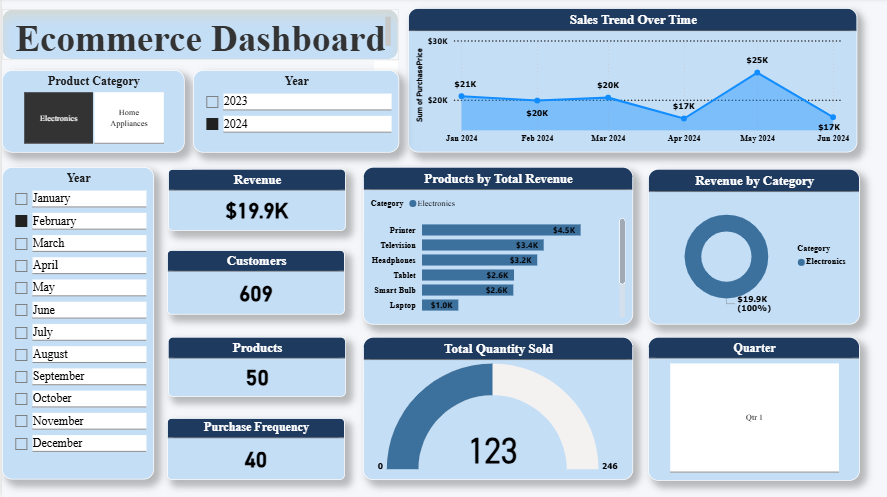

What the dashboard file says about the page in this screenshot:
{"tool":"powerbi","page":{"name":"E-Commerce Overview","canvas":[1280,720],"ordinal":0},"visuals":[{"type":"textbox","title":"Ecommerce Dashboard","box":[0,15.9,571.5,72.9],"z":6000},{"type":"areaChart","title":"Sales Trend Over Time","fields":{"Category":["transactions.PurchaseDate.Variation.Date Hierarchy.Year","transactions.PurchaseDate.Variation.Date Hierarchy.Month"],"Y":["Sum(transactions.PurchasePrice)"]},"box":[584.8,14.6,647.1,208.2],"z":7000},{"type":"donutChart","title":"Revenue by Category","fields":{"Series":["customer_purchase_db product.ProductCategory"],"Y":["All Measures.Total Revenue"]},"box":[930.8,246.6,305,224.1],"z":8000},{"type":"barChart","title":"Products  by Total Revenue","fields":{"Category":["customer_purchase_db product.ProductName"],"Series":["product.ProductCategory"],"Y":["Sum(transactions.PurchasePrice)"]},"box":[519.8,244,388.5,226.7],"z":9000},{"type":"gauge","title":"Total Quantity Sold","fields":{"Y":["All Measures.Product_quantity_sold"]},"box":[519.8,488,388.5,205.5],"z":10000},{"type":"slicer","title":"Product Category","fields":{"Values":["customer_purchase_db product.ProductCategory"]},"box":[0,103.4,262.5,119.3],"z":11000},{"type":"slicer","title":"Quarter","fields":{"Values":["customer_purchase_db transactions.PurchaseDate.Variation.Date Hierarchy.Quarter"]},"box":[930.8,488,305,206.9],"z":12000},{"type":"slicer","title":"Year","fields":{"Values":["customer_purchase_db transactions.PurchaseDate.Variation.Date Hierarchy.Month"]},"box":[0,244,218.8,449.5],"z":13000},{"type":"slicer","title":"Year","fields":{"Values":["transactions.PurchaseDate.Variation.Date Hierarchy.Year"]},"box":[274.5,103.4,297,119.3],"z":15000},{"type":"card","title":"Revenue","fields":{"Values":["All Measures.Total Revenue"]},"box":[238.7,246.6,255.9,88.8],"z":17000},{"type":"card","title":"Customers","fields":{"Values":["All Measures.Total Customers"]},"box":[237.3,363.3,255.9,92.8],"z":20000},{"type":"card","title":"Purchase Frequency","fields":{"Values":["All Measures.no_of_transactions"]},"box":[237.3,604.6,255.9,88.8],"z":21000},{"type":"card","title":"Products","fields":{"Values":["All Measures.Total_Products"]},"box":[238.7,488,255.9,86.2],"z":24000}]}

Visuals, with their boxes in screenshot pixels (x1, y1, x2, y2), scaled from the page's 1280x720 canvas onto the 887x497 screenshot:
"Ecommerce Dashboard" textbox: pyautogui.locateOnScreen(0, 11, 396, 61)
"Sales Trend Over Time" areaChart: pyautogui.locateOnScreen(405, 10, 854, 154)
"Revenue by Category" donutChart: pyautogui.locateOnScreen(645, 170, 856, 325)
"Products  by Total Revenue" barChart: pyautogui.locateOnScreen(360, 168, 629, 325)
"Total Quantity Sold" gauge: pyautogui.locateOnScreen(360, 337, 629, 479)
"Product Category" slicer: pyautogui.locateOnScreen(0, 71, 182, 154)
"Quarter" slicer: pyautogui.locateOnScreen(645, 337, 856, 480)
"Year" slicer: pyautogui.locateOnScreen(0, 168, 152, 479)
"Year" slicer: pyautogui.locateOnScreen(190, 71, 396, 154)
"Revenue" card: pyautogui.locateOnScreen(165, 170, 343, 232)
"Customers" card: pyautogui.locateOnScreen(164, 251, 342, 315)
"Purchase Frequency" card: pyautogui.locateOnScreen(164, 417, 342, 479)
"Products" card: pyautogui.locateOnScreen(165, 337, 343, 396)
